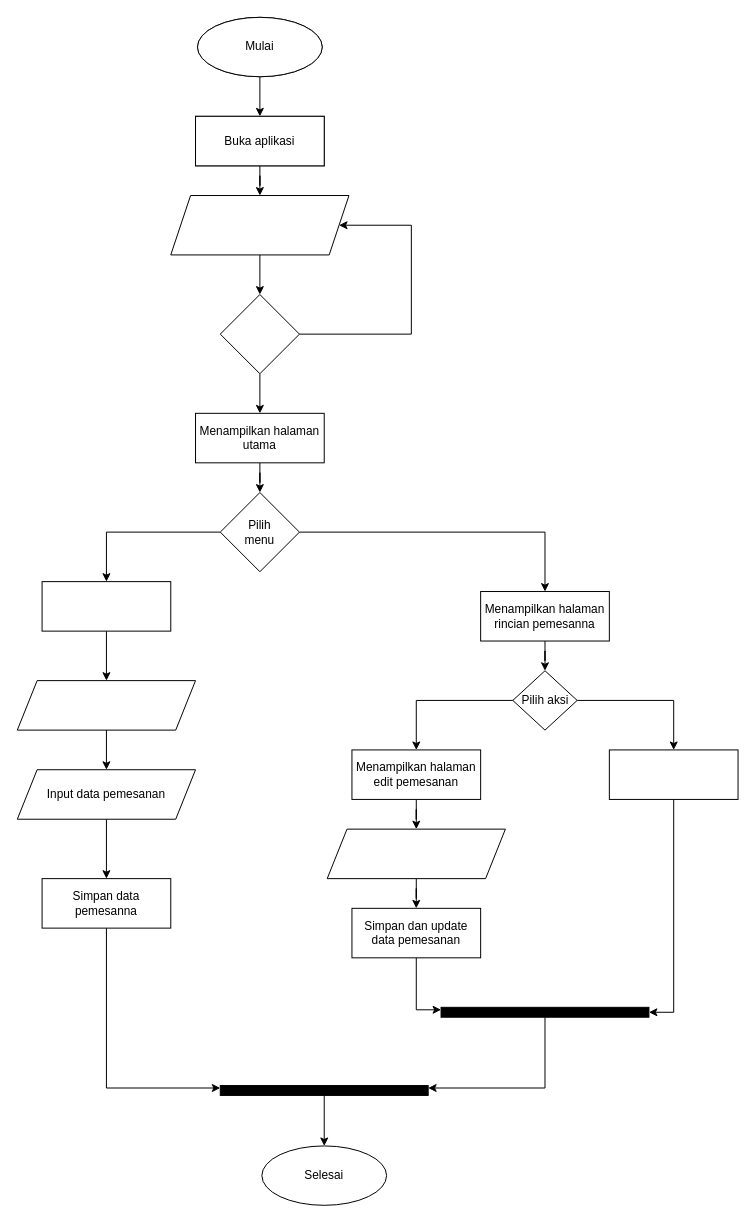
Image size: 755x1223. Some labels were removed from this diagram. Here are the shapes that lost their labels. From the top down, the box of each, then its label:
(170, 195, 349, 255): Masukkan username dan password admin
(219, 294, 299, 374): validasi login
(41, 581, 171, 631): Menampilkan halaman data pemesanan
(16, 680, 196, 730): input pilihan kamar
(608, 749, 738, 799): Hapus data pemesanan
(326, 828, 505, 879): Input data pemesanan baru
